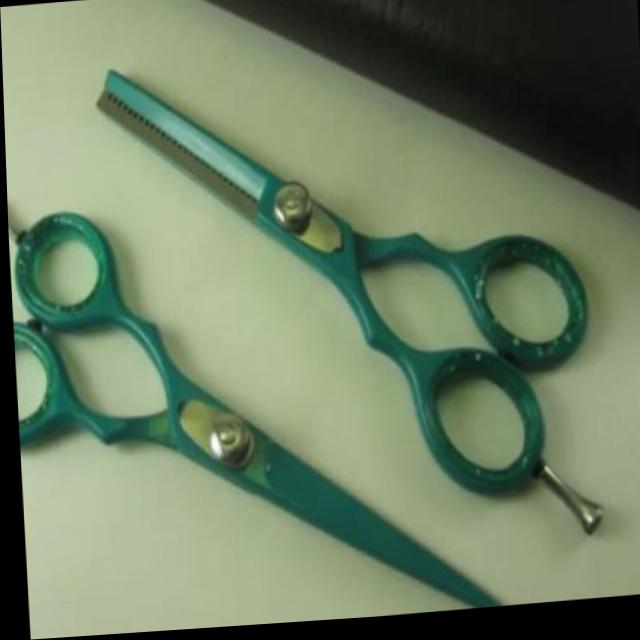scissor: (69, 54, 609, 553)
